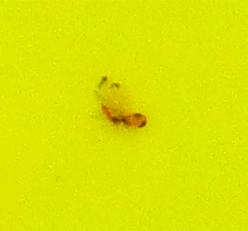Hemiptera: (100, 100, 148, 131)
